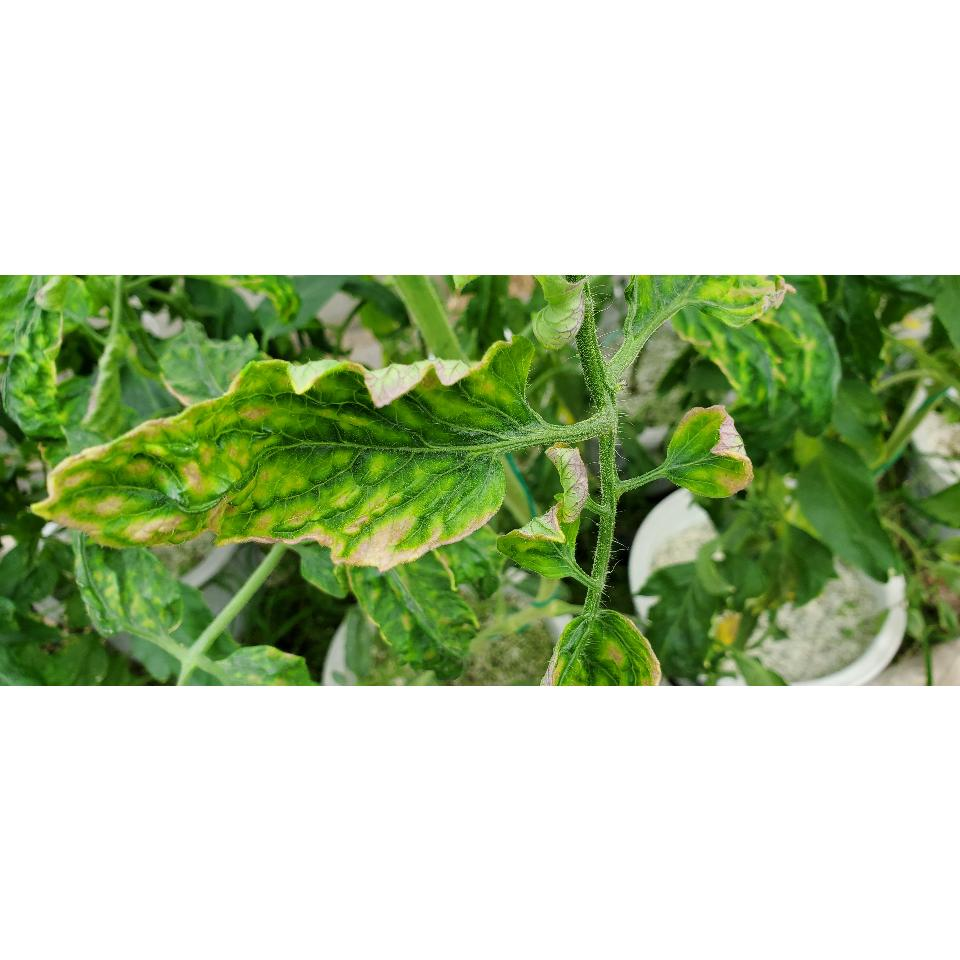tomato_yellow_leaf_curl_virus: (34, 332, 534, 566), (666, 407, 752, 496)
